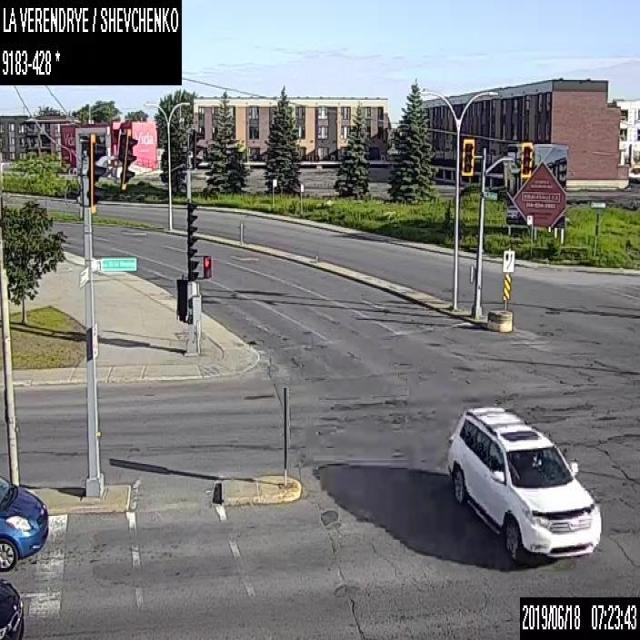vehicle: (444, 403, 601, 565), (0, 475, 49, 573), (0, 578, 25, 638)
